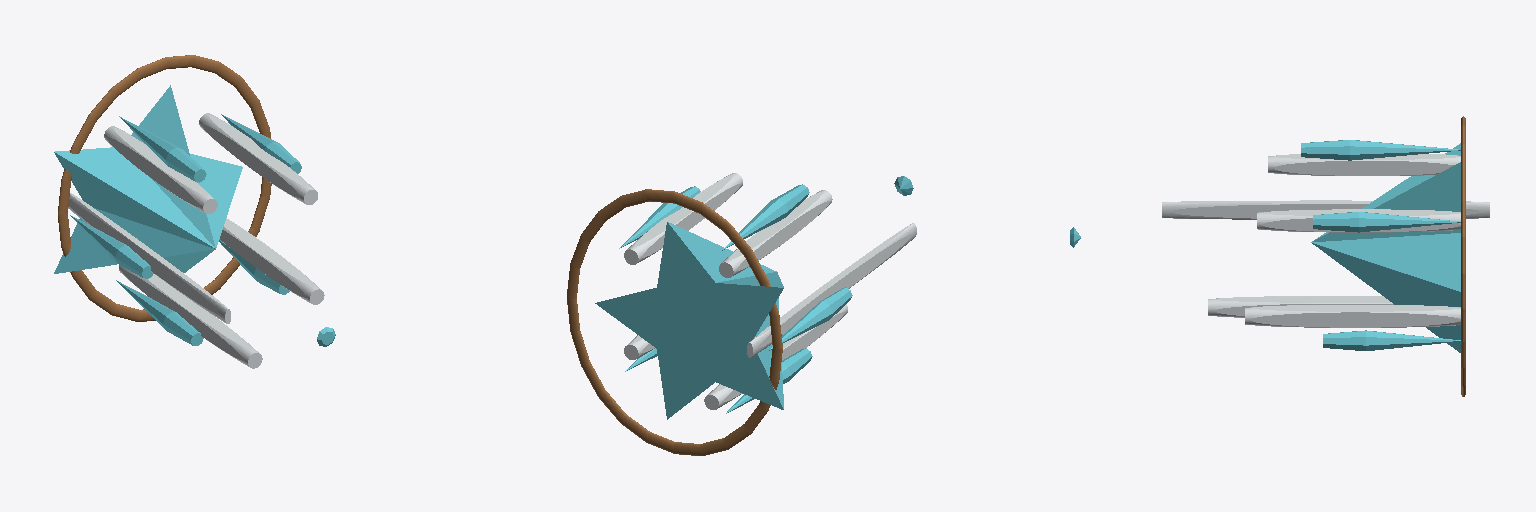
File: tinker.obj
The picture shows the model from 3 angles: view 1: azimuth 30°, elevation 25°; view 2: azimuth 150°, elevation 25°; view 3: azimuth 270°, elevation 25°; orthographic projection.
Parts seen in each view (by area): view 1: obj_0; view 2: obj_0; view 3: obj_0.
Boxes of the visible parts, box(x1,y1,x2,y2) form: obj_0: box(54, 55, 335, 368); obj_0: box(567, 173, 916, 455); obj_0: box(1070, 116, 1489, 396).
Bounding box in the file's own units: 226 × 259 × 375.